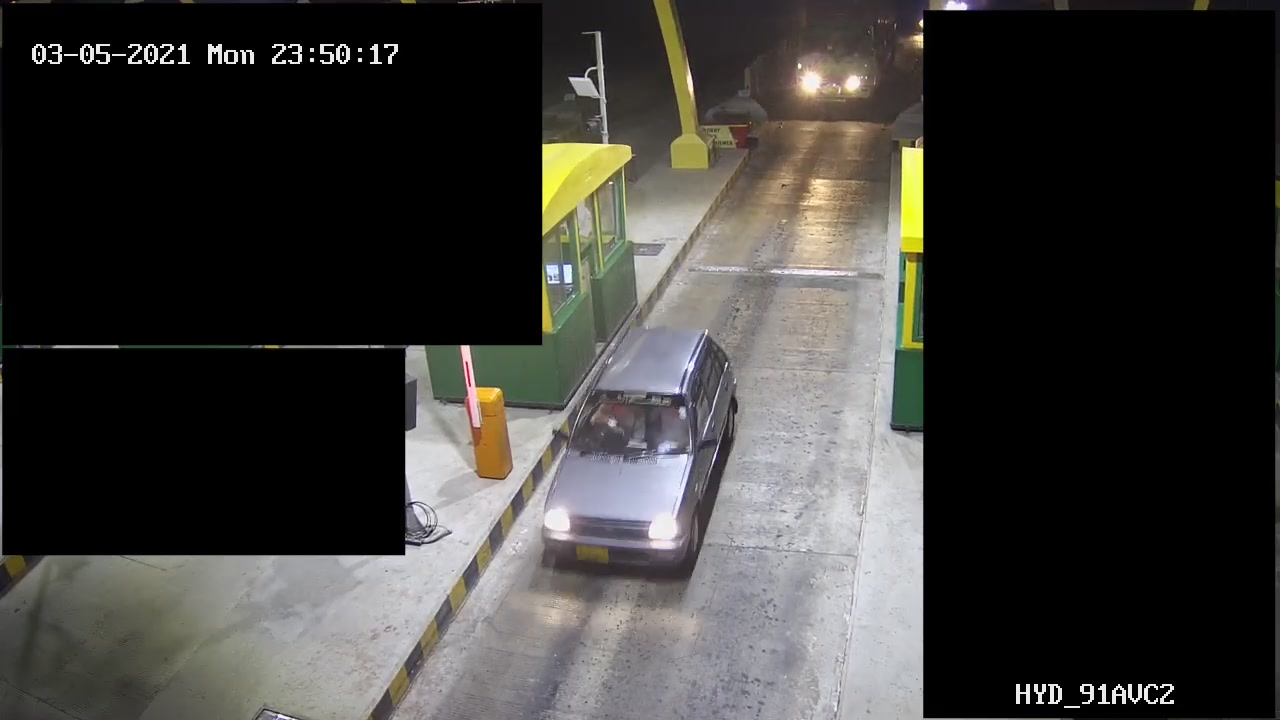F1: (531, 315, 756, 578)
